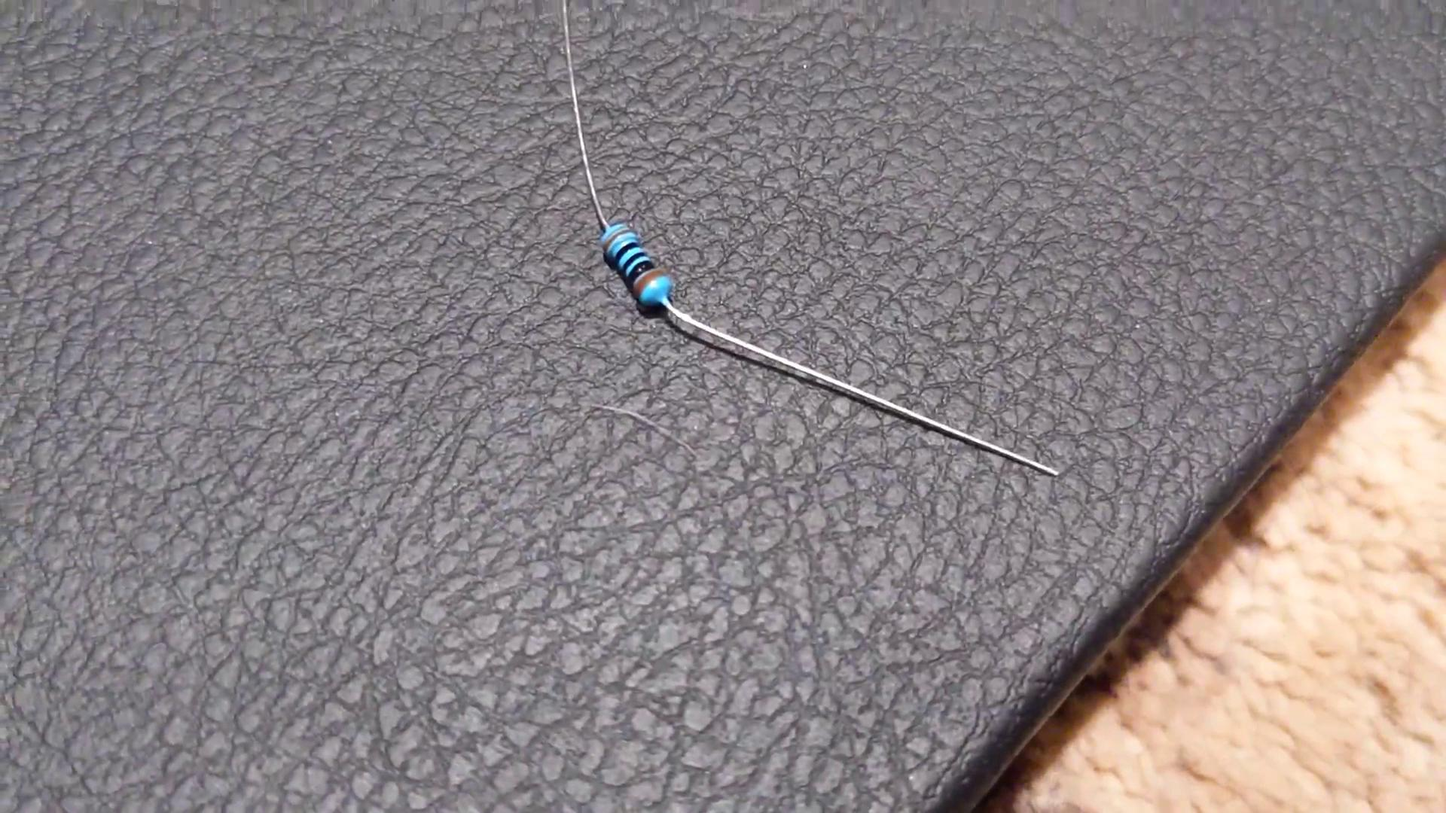resistor: (597, 216, 678, 318)
